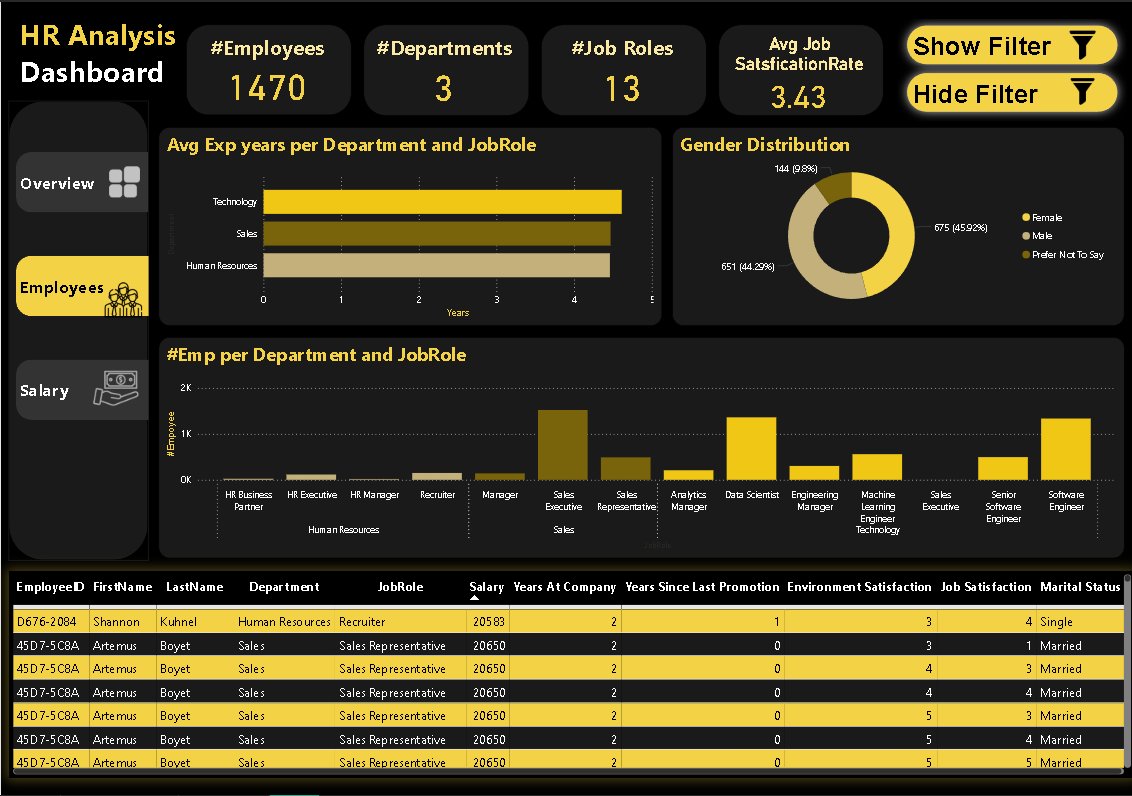

What the dashboard file says about the page in this screenshot:
{"tool":"powerbi","page":{"name":"Employee","canvas":[1500,1050],"ordinal":1},"visuals":[{"type":"card","title":"#Employees","fields":{"Values":["Employee.EmployeeID"]},"box":[244.6,30,219,120],"z":0},{"type":"card","title":"#Job Roles","fields":{"Values":["Employee.JobRole"]},"box":[714.5,29.5,218.9,121],"z":1000},{"type":"card","title":"#Departments","fields":{"Values":["Employee.Department"]},"box":[479.6,29.5,218.9,121],"z":2000},{"type":"textbox","box":[20.6,11,286.8,119.4],"z":3000},{"type":"columnChart","title":"#Emp per Department and JobRole ","fields":{"Category":["Employee.Department","Employee.JobRole"],"Y":["Performance Rating.EmployeeID"],"Series":["Employee.Department"]},"box":[208.4,443.3,1278.6,292.8],"z":4000},{"type":"shape","box":[9.9,130.7,185.3,608.7],"z":5000},{"type":"shape","title":"Overvie","box":[20,198.3,175,80],"z":6000},{"type":"shape","title":"Overvie","box":[20,336.3,175.7,80],"z":7000},{"type":"barChart","title":"Avg Exp years per Department and JobRole","fields":{"Category":["Employee.Department","Employee.JobRole"],"Y":["Employee.Years At Company"],"Series":["Employee.Department"]},"box":[208.4,165.4,666.6,263],"z":8000},{"type":"shape","title":"Overvie","box":[20,474.3,175.7,80],"z":9000,"group":"g1"},{"type":"image","box":[132.6,210.5,61.6,55.8],"z":9000},{"type":"image","box":[132.6,360.5,59.3,67.4],"z":10000},{"type":"image","box":[110,473.8,86.2,76.2],"z":11000,"group":"g1"},{"type":"group","id":"g1","title":"Group 1","box":[20,473.8,176.2,80.5],"z":11000},{"type":"shape","box":[1185.3,19,304.4,77.1],"z":12000},{"type":"image","box":[1396.4,33.7,71.1,48],"z":13000},{"type":"shape","box":[1185.3,81.9,304.4,77.1],"z":14000},{"type":"image","box":[1396.4,96.6,71.1,44.7],"z":15000},{"type":"donutChart","title":"Gender Distribution","fields":{"Y":["Employee.Gender"],"Category":["Employee.Gender"]},"box":[888.2,165.4,598.8,263],"z":16000},{"type":"tableEx","fields":{"Values":["Employee.EmployeeID","Employee.FirstName","Employee.LastName","Employee.Department","Employee.JobRole","Employee.Salary","Employee.Years At Company","Employee.Years Since Last Promotion","Performance Rating.Environment Satisfaction","Performance Rating.Job Satisfaction","Employee.Marital Status"]},"box":[9.9,752.6,1490.3,274.6],"z":17000},{"type":"card","title":"Avg Job SatsficationRate","fields":{"Values":["Performance Rating.Job Satisfaction"]},"box":[949.4,29.7,218.3,120.7],"z":22000}]}

Visuals, with their boxes in screenshot pixels (x1, y1, x2, y2), scaled from the page's 1500x1050 canvas onto the 1132x796 screenshot:
"#Employees" card: 185/23/350/114
"#Job Roles" card: 539/22/704/114
"#Departments" card: 362/22/527/114
textbox: 16/8/232/99
"#Emp per Department and JobRole " columnChart: 157/336/1122/558
shape: 7/99/147/561
"Overvie" shape: 15/150/147/211
"Overvie" shape: 15/255/148/316
"Avg Exp years per Department and JobRole" barChart: 157/125/660/325
"Overvie" shape: 15/360/148/420
image: 100/160/147/202
image: 100/273/145/324
image: 83/359/148/417
"Group 1" group: 15/359/148/420
shape: 895/14/1124/73
image: 1054/26/1107/62
shape: 895/62/1124/121
image: 1054/73/1107/107
"Gender Distribution" donutChart: 670/125/1122/325
tableEx - Employee.EmployeeID x Employee.FirstName: 7/571/1131/779
"Avg Job SatsficationRate" card: 716/23/881/114
